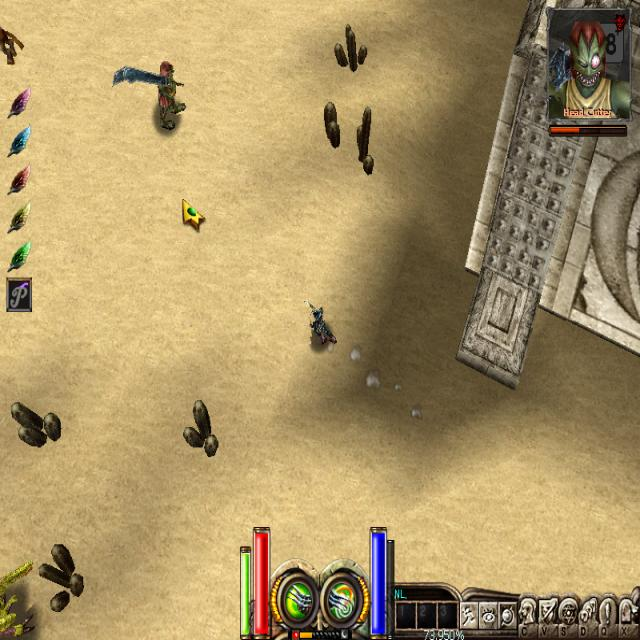monster: (111, 43, 198, 150)
